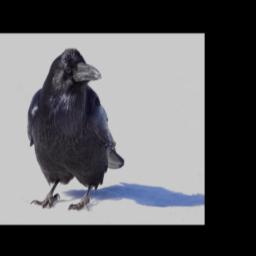Crow: (27, 46, 126, 212)
